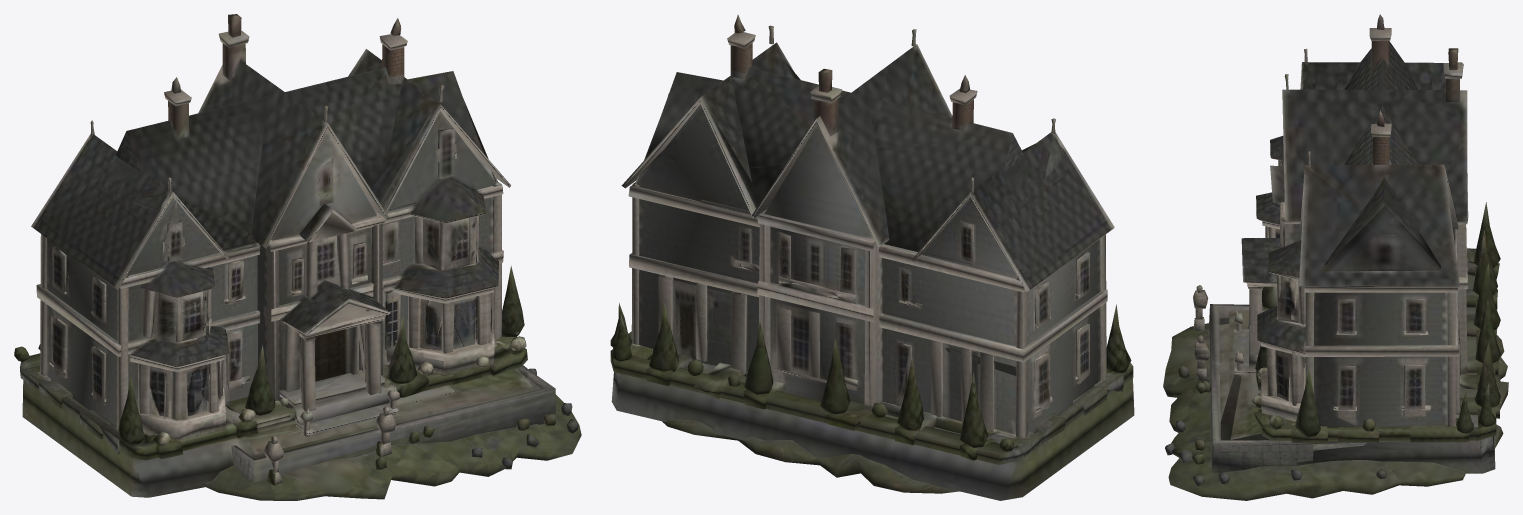
Rendered from upper_house_3.glb.
The picture shows the model from 3 angles, left to right: view 1: azimuth 30°, elevation 25°; view 2: azimuth 150°, elevation 25°; view 3: azimuth 270°, elevation 25°; orthographic projection. The views are drawn at different scales.
Parts seen in each view (by area): view 1: UpperHouse3Mesh; view 2: UpperHouse3Mesh; view 3: UpperHouse3Mesh.
Boxes of the visible parts, x1,y1,x2,y2 form: UpperHouse3Mesh: [14, 14, 581, 500]; UpperHouse3Mesh: [610, 14, 1134, 500]; UpperHouse3Mesh: [1163, 14, 1508, 500].
Bounding box in the file's own units: 2 × 1.69 × 1.5.
Materials: 1 (1 with a texture image).
